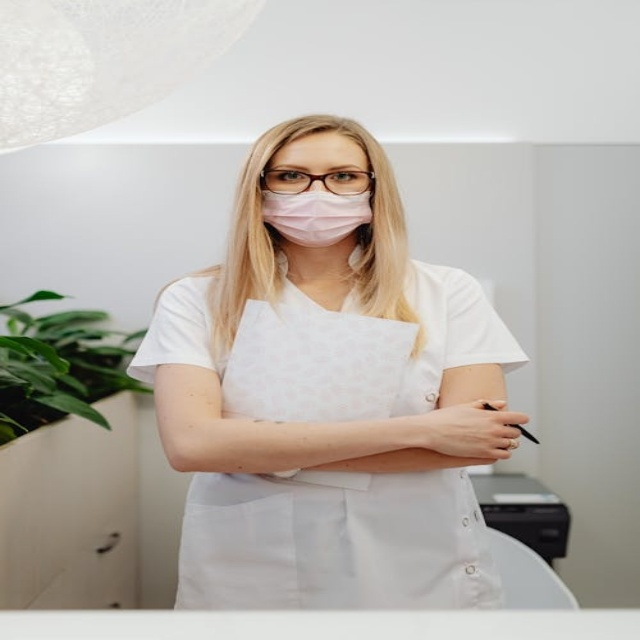Gafas: (260, 169, 378, 195)
Mascara: (259, 185, 376, 245)
Sin_guantes: (412, 397, 534, 464)
